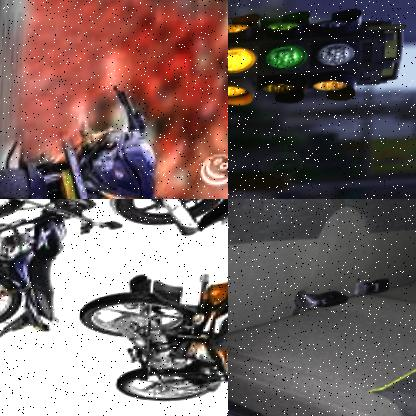bike: (71, 258, 228, 416), (0, 76, 193, 199), (0, 199, 103, 353)
car: (228, 199, 416, 416)
